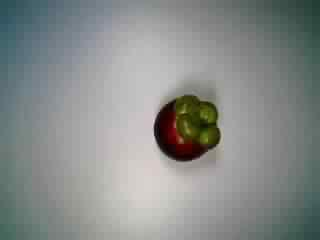mangosteen: (140, 91, 226, 165)
